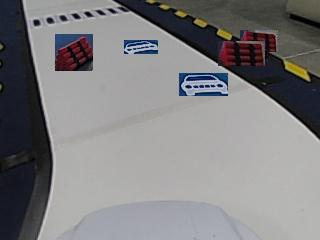crosswalk: (29, 3, 130, 27)
